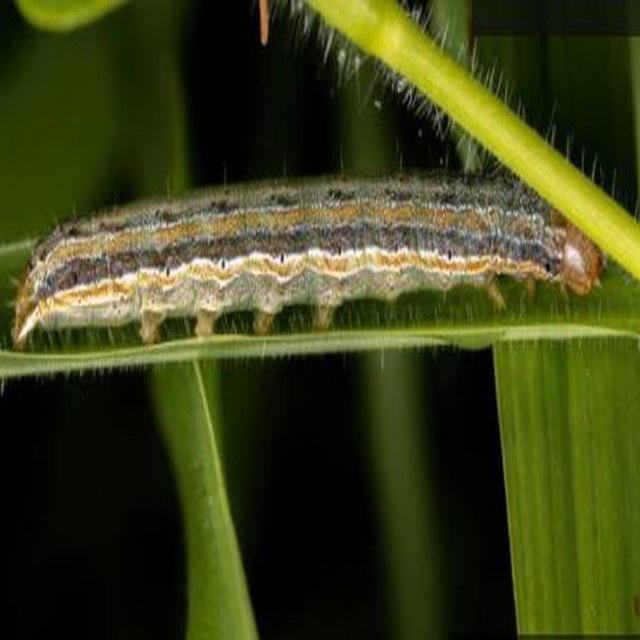gusano_cogollero: (2, 165, 606, 354)
